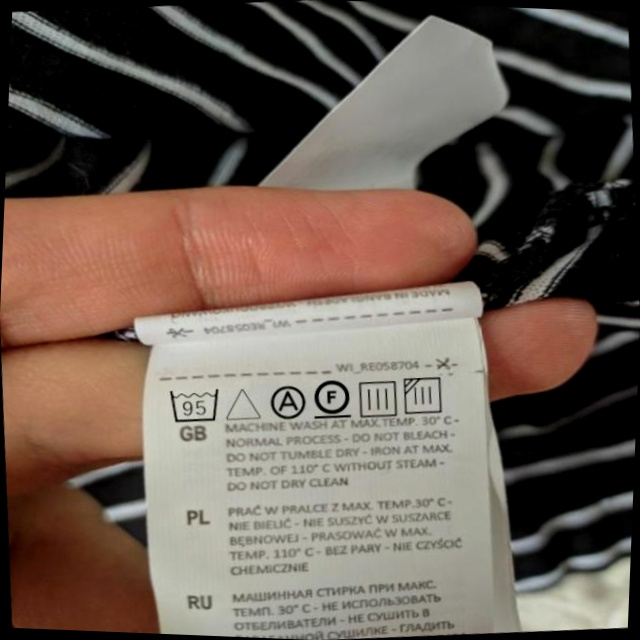95C: (166, 383, 225, 426)
bleach: (224, 381, 262, 425)
drip_dry: (355, 375, 402, 420)
drip_dry_in_shade: (402, 372, 450, 419)
dry_clean: (266, 382, 307, 422)
dry_clean_petrol_only: (311, 373, 354, 422)
